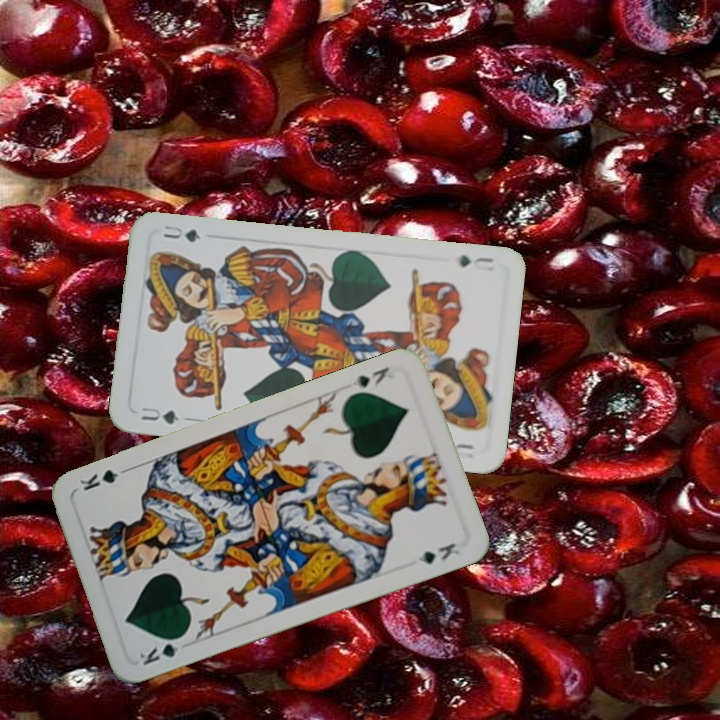GK: (135, 631, 188, 668), (348, 363, 392, 390)
GU: (137, 403, 183, 427), (455, 251, 496, 270)
